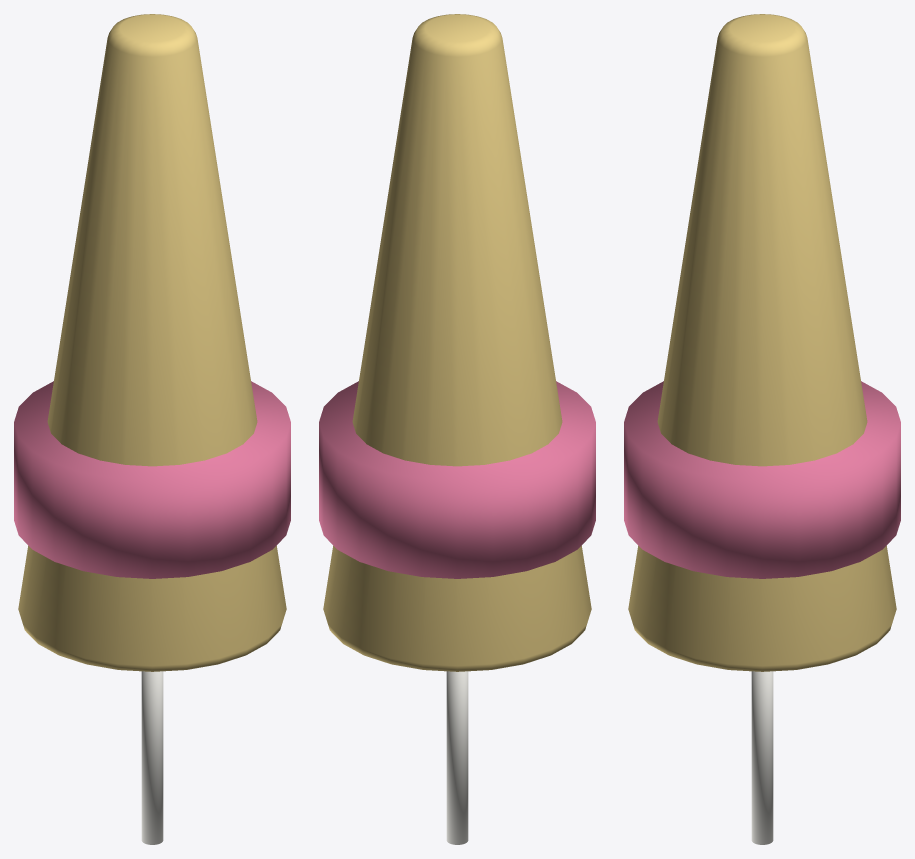
File: party_popper.fbx
3 views of the same model, side by side, from view 1: azimuth 30°, elevation 25°; view 2: azimuth 150°, elevation 25°; view 3: azimuth 270°, elevation 25° (orthographic).
Parts seen in each view (by area): view 1: party_popper; view 2: party_popper; view 3: party_popper.
Boxes of the visible parts, x1=… form: party_popper: x1=14, y1=14, x2=290, y2=844; party_popper: x1=319, y1=14, x2=595, y2=844; party_popper: x1=624, y1=14, x2=900, y2=844.
Bounding box in the file's own units: 0.051 × 0.165 × 0.051.
